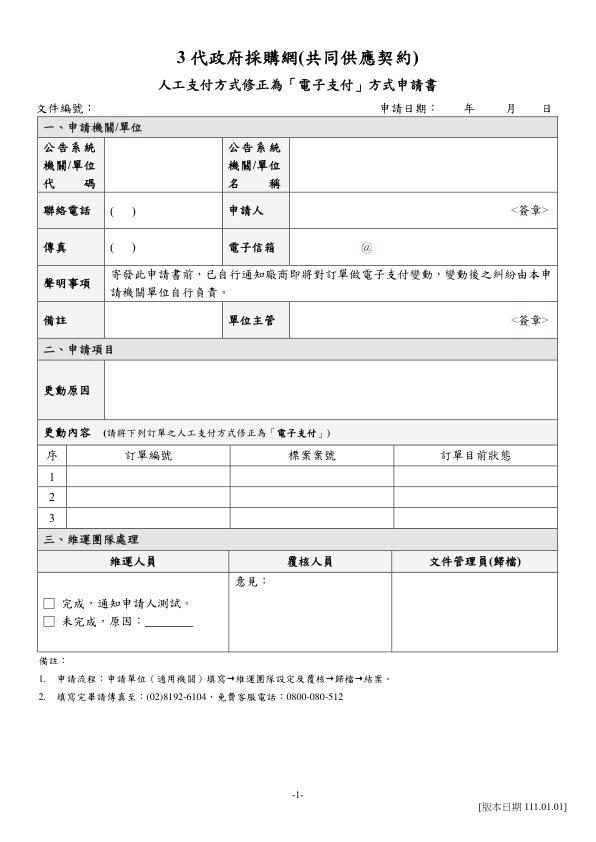table: (34, 115, 562, 655)
text: (36, 654, 394, 705), (175, 47, 422, 69), (153, 78, 444, 93), (380, 100, 556, 114), (476, 799, 569, 817), (35, 100, 94, 114)
